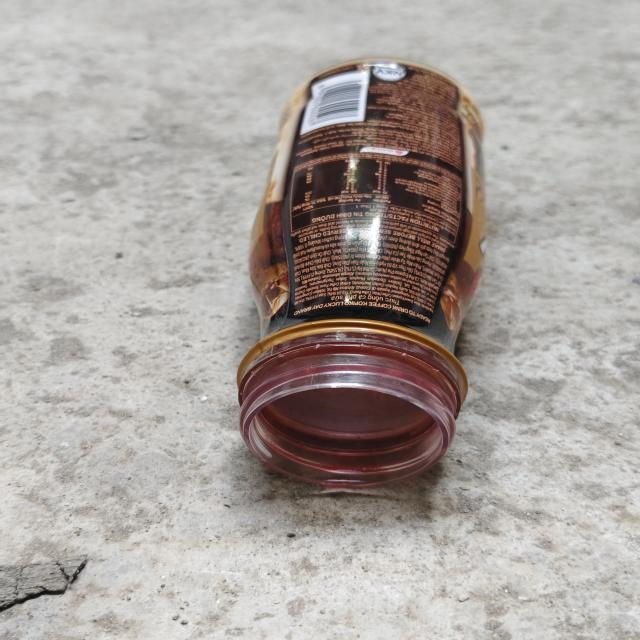Bottle: (237, 61, 485, 490)
